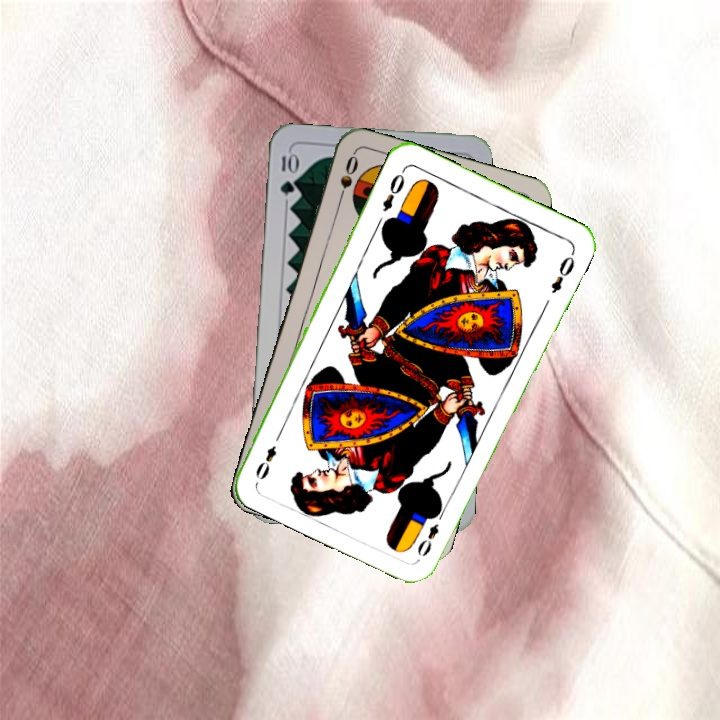EO: (413, 505, 448, 559), (378, 165, 408, 214)
G10: (276, 148, 298, 198)
SO: (333, 151, 361, 209)
